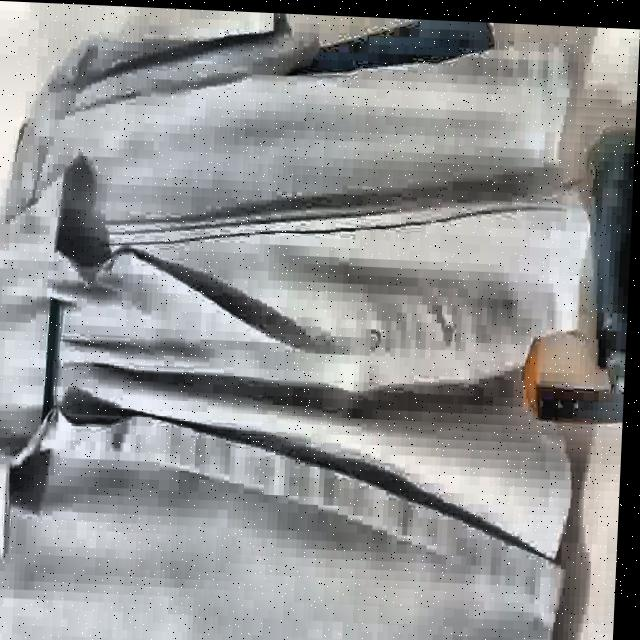clothes: (0, 8, 599, 640)
